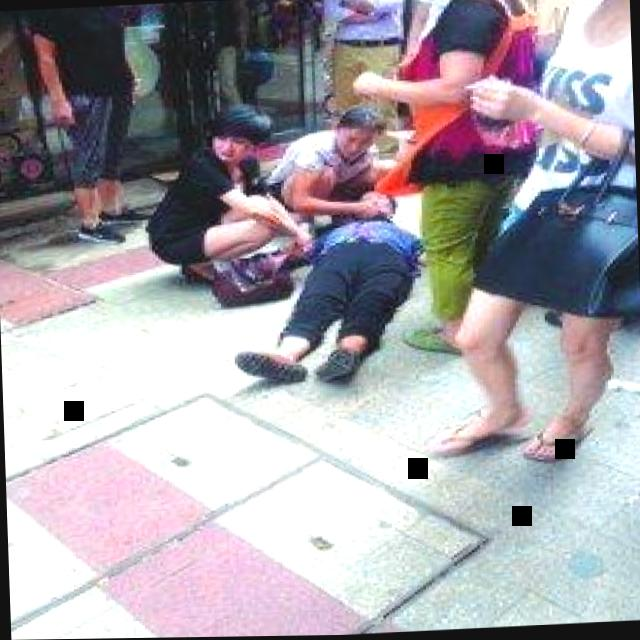Fall-Detected: (211, 183, 430, 391)
